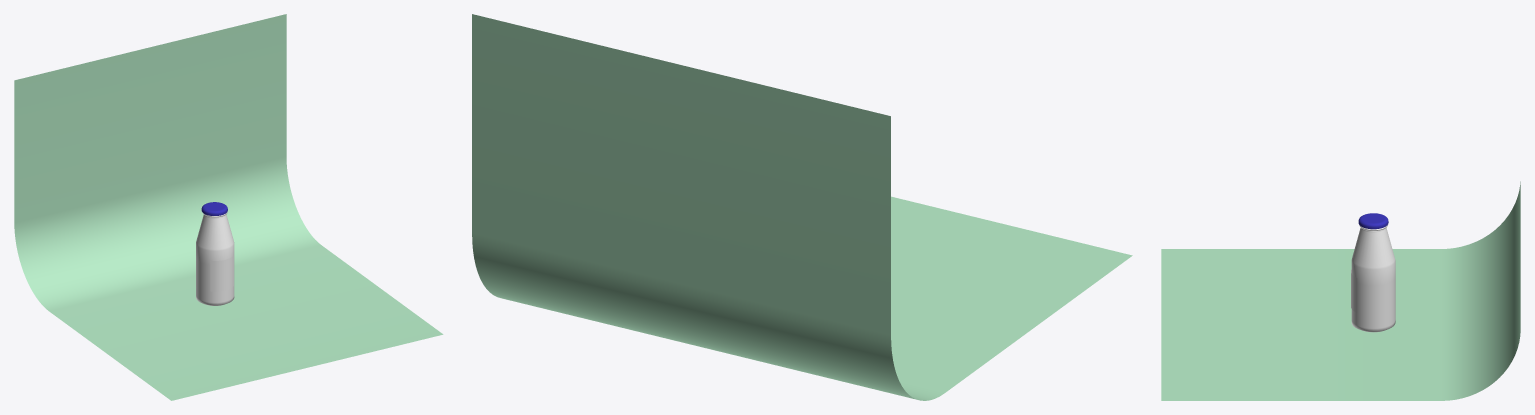
The model's file is botol.glb.
3 renders of one model, left to right at view 1: azimuth 30°, elevation 25°; view 2: azimuth 150°, elevation 25°; view 3: azimuth 270°, elevation 25°, orthographic. The views are drawn at different scales.
Visible parts, largest first — view 1: Plane, Cylinder, Cylinder.003; view 2: Plane; view 3: Plane, Cylinder, Cylinder.002.
Part boxes in pixels (x1,y1,x2,y2): Plane: (14, 14, 443, 400); Cylinder: (196, 212, 234, 305); Cylinder.003: (210, 255, 233, 291); Plane: (472, 14, 1132, 400); Plane: (1161, 181, 1520, 400); Cylinder: (1351, 225, 1395, 332); Cylinder.002: (1358, 213, 1388, 229).
Bounding box in the file's own units: 16.36 × 11.85 × 16.36.
